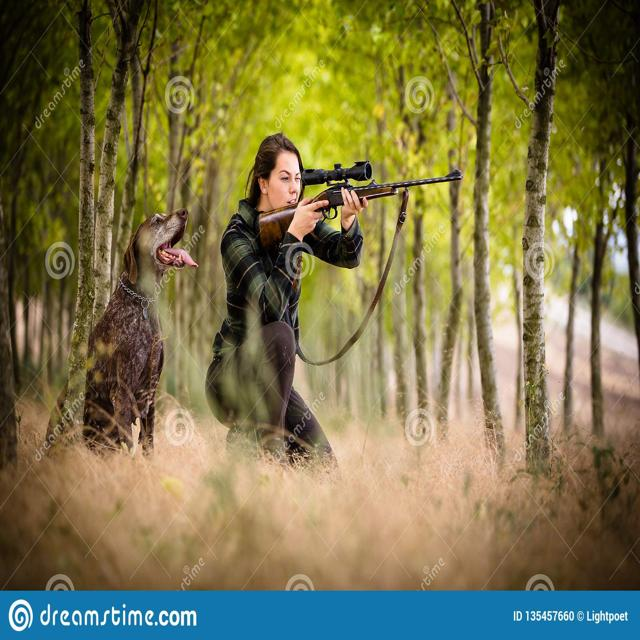dog: (56, 176, 227, 485)
gun: (229, 144, 478, 274)
poacher: (178, 110, 405, 499)
